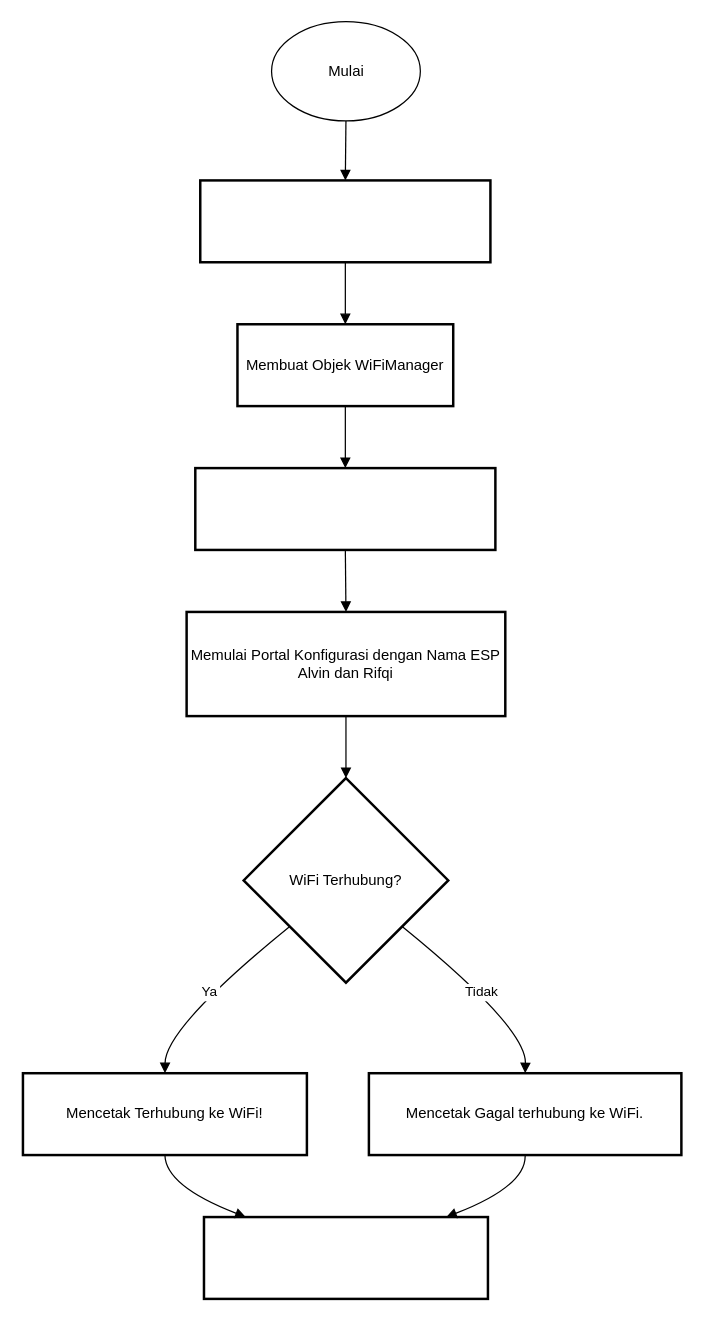
Some shapes in this 703 by 1322 pixel diagram are drawn without their labels. The centre of each missing label's shape, as x and y in pixels:
"Inisialisasi Serial dengan Baud Rate 115200" belongs at pixel 344 221.
"Loop Menjalankan Kode Utama" belongs at pixel 345 1257.
"Mencetak Memulai portal konfigurasi..." belongs at pixel 344 508.
